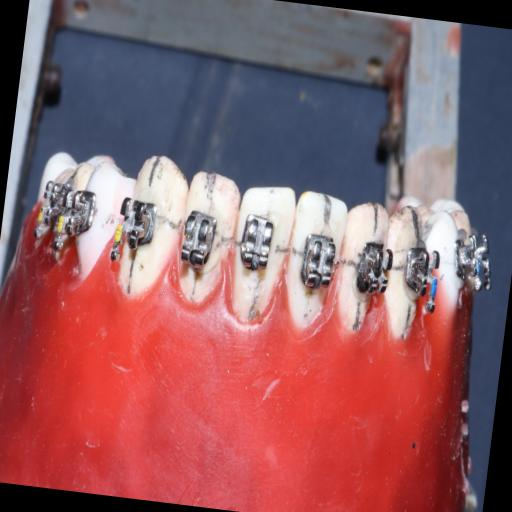incorrect_brace: (235, 212, 286, 279)
